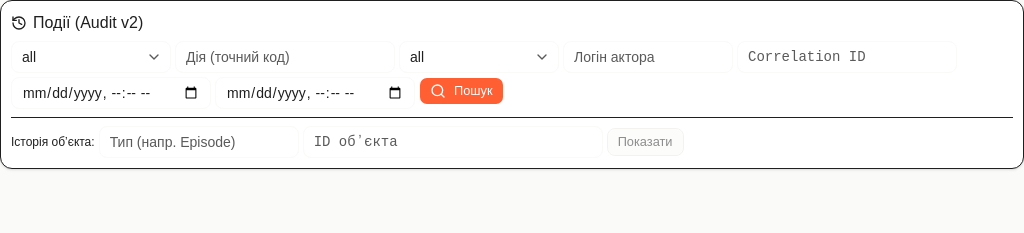
Test: AuditEventConsole › shows an honest error when the backend denies console access
Click the button "Пошук" at (461, 91), box [419,77,504,105]
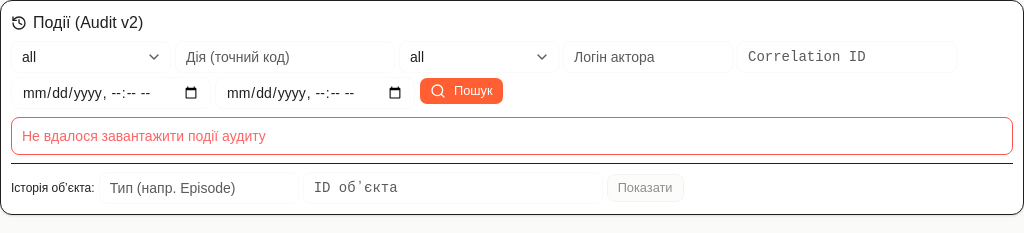
Expected: the text "Не вдалося завантажити події аудиту" is shown, [22,128,266,144]
